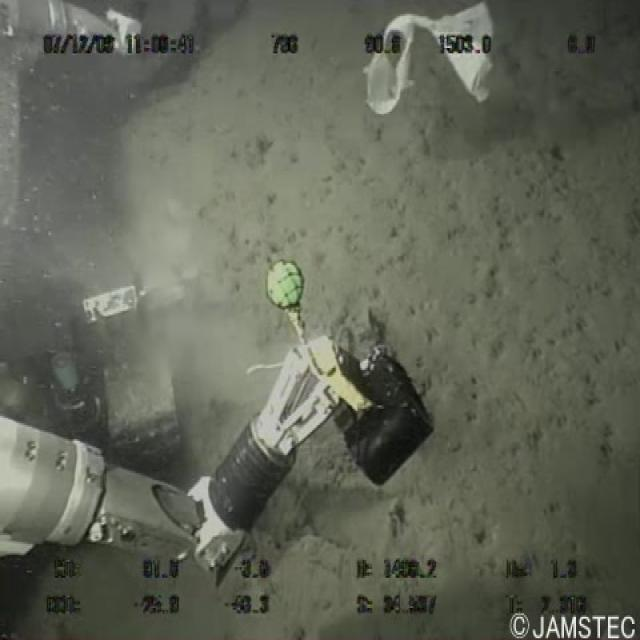plastic: (351, 0, 513, 117)
